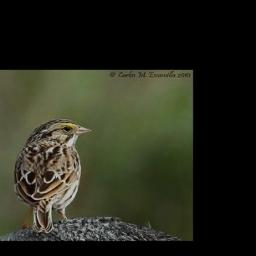Sparrow: (13, 117, 95, 233)
